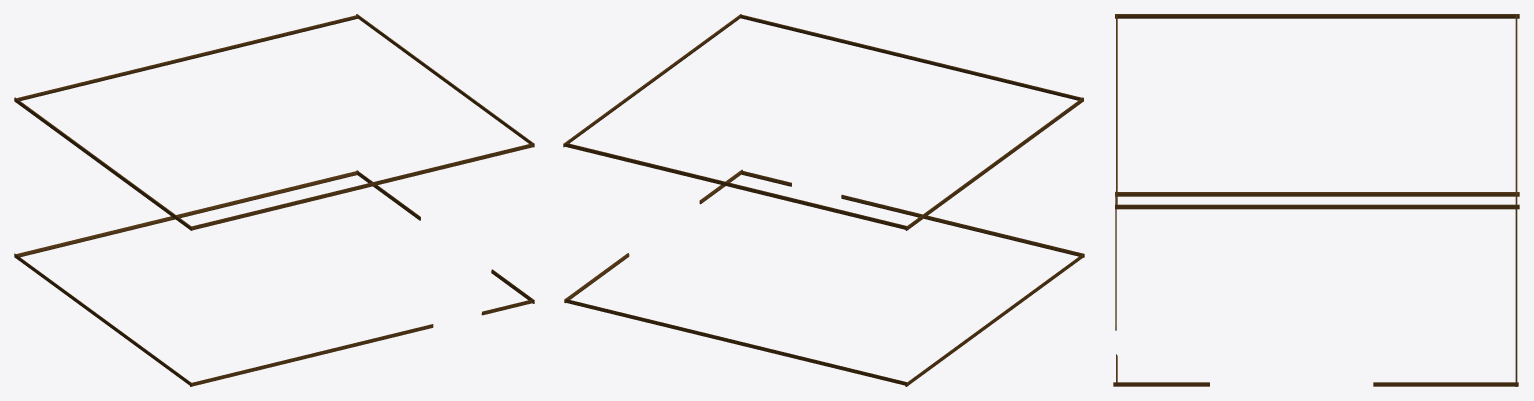
Rendered from Trim.fbx.
The picture shows the model from 3 angles, left to right: view 1: azimuth 30°, elevation 25°; view 2: azimuth 150°, elevation 25°; view 3: azimuth 270°, elevation 25°; orthographic projection. The views are drawn at different scales.
Parts seen in each view (by area): view 1: Trim; view 2: Trim; view 3: Trim.
Boxes of the visible parts, x1,y1,x2,y2 form: Trim: (14, 14, 534, 386); Trim: (563, 14, 1084, 386); Trim: (1113, 14, 1519, 386).
Bounding box in the file's own units: 18.08 × 8.01 × 16.21.
